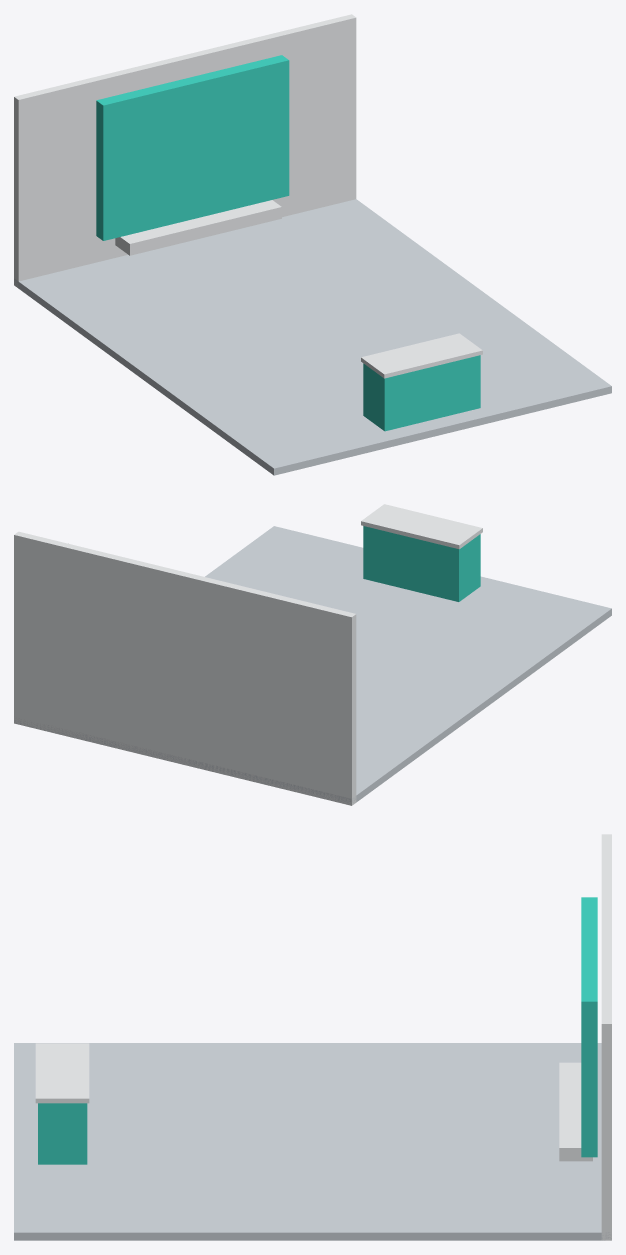
3 views of the same model, one above another, from view 1: azimuth 30°, elevation 25°; view 2: azimuth 150°, elevation 25°; view 3: azimuth 270°, elevation 25° (orthographic). The views are drawn at different scales.
Visible parts, largest first — view 1: Exhibition Booth Concept; view 2: Exhibition Booth Concept; view 3: Exhibition Booth Concept.
Boxes of the visible parts, x1,y1,x2,y2 form: Exhibition Booth Concept: (14,14,611,475); Exhibition Booth Concept: (14,504,611,805); Exhibition Booth Concept: (14,834,611,1240).
Bounding box in the file's own units: 6 × 3.2 × 8.
